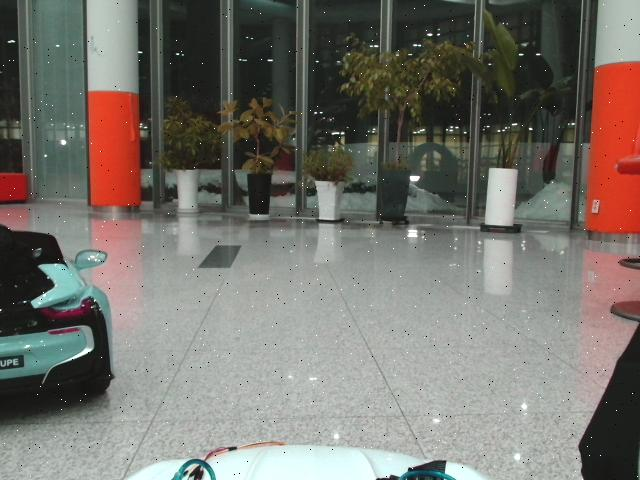car: (1, 225, 112, 418)
